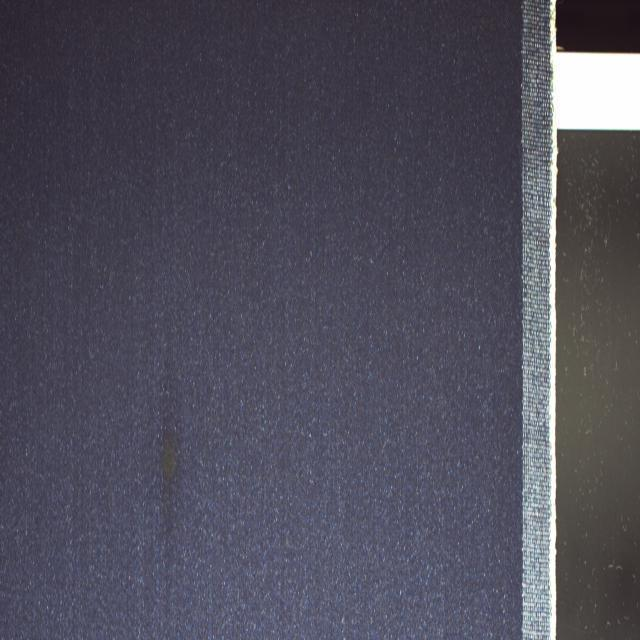Stain: (162, 430, 177, 484)
